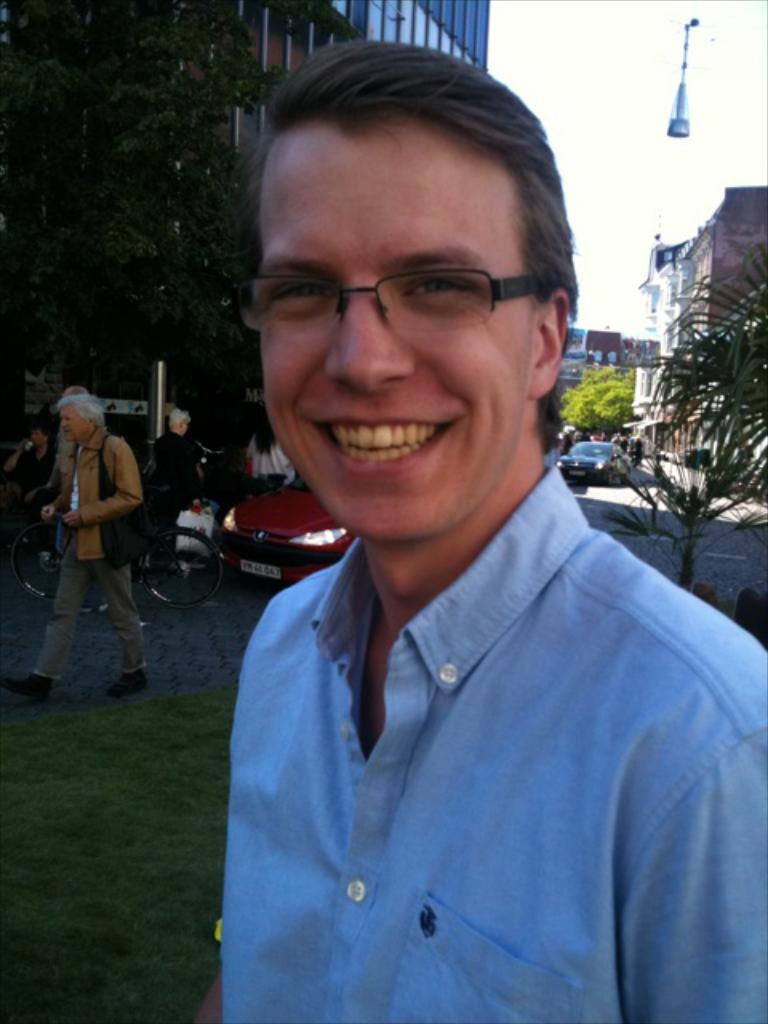Car: (217, 475, 356, 593), (556, 435, 632, 486)
